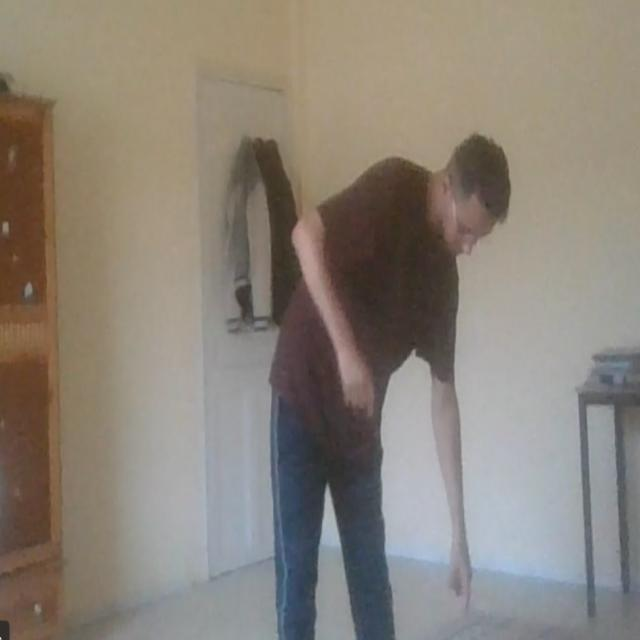non_violence: (241, 96, 518, 640), (262, 119, 507, 640)
